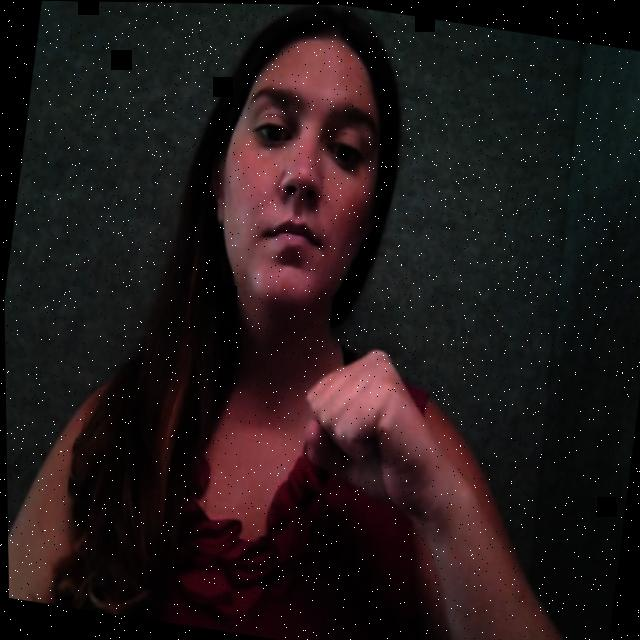Rock: (251, 319, 525, 613)
